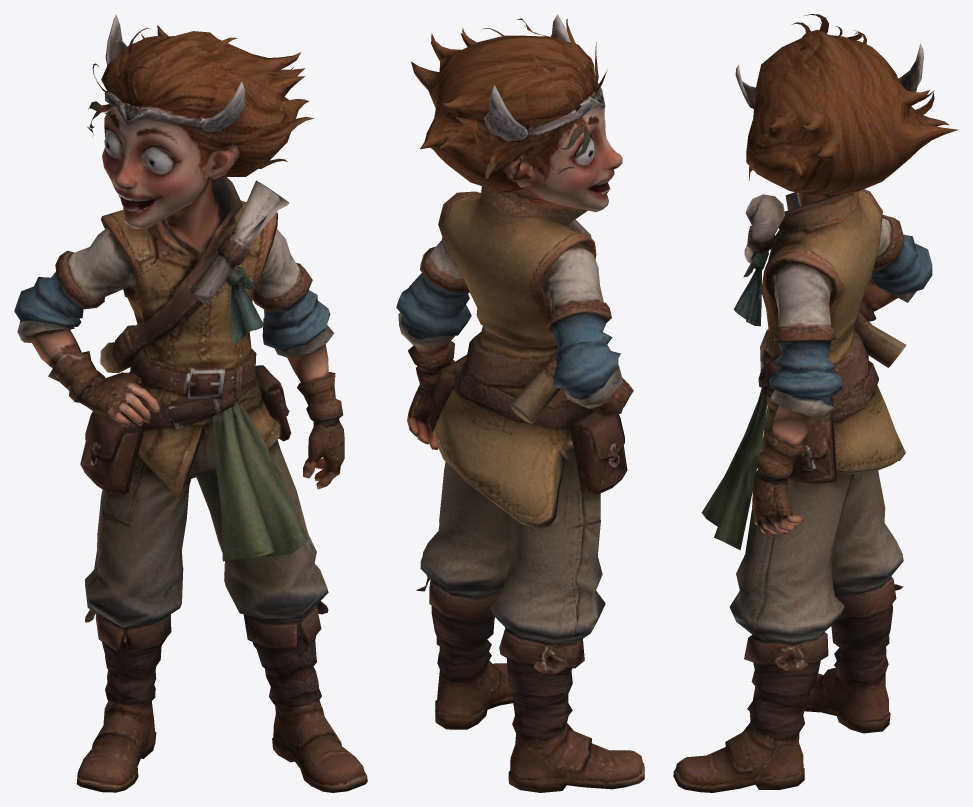
File: spec-speed-512.glb
3 renders of one model, left to right at view 1: azimuth 30°, elevation 25°; view 2: azimuth 150°, elevation 25°; view 3: azimuth 270°, elevation 25°, orthographic. The views are drawn at different scales.
Parts seen in each view (by area): view 1: tripo_node_37ad4d35-d6ce-43b5-8fab-60a56f9e4eb1; view 2: tripo_node_37ad4d35-d6ce-43b5-8fab-60a56f9e4eb1; view 3: tripo_node_37ad4d35-d6ce-43b5-8fab-60a56f9e4eb1.
Part boxes in pixels (x1,y1,x2,y2): tripo_node_37ad4d35-d6ce-43b5-8fab-60a56f9e4eb1: [14, 14, 367, 792]; tripo_node_37ad4d35-d6ce-43b5-8fab-60a56f9e4eb1: [396, 14, 644, 792]; tripo_node_37ad4d35-d6ce-43b5-8fab-60a56f9e4eb1: [673, 14, 958, 792].
Size of the model in its own units: 0.3755 by 0.9995 by 0.3648.
1 material, 1 textured.
